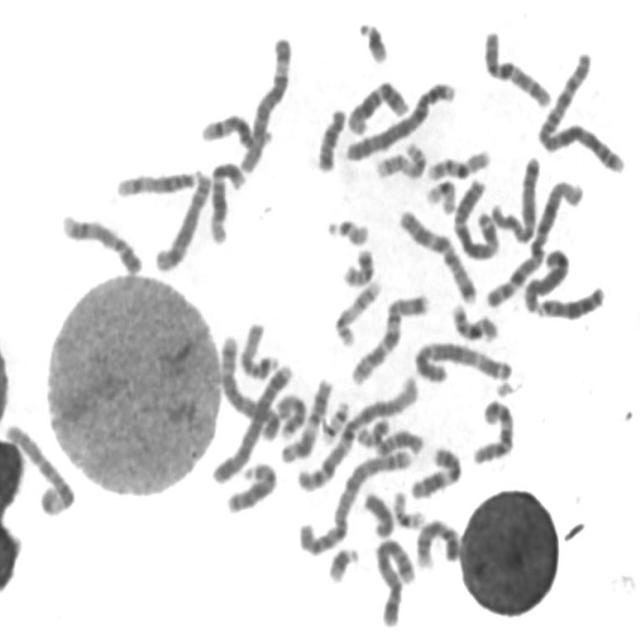A1: (293, 369, 422, 494), (482, 175, 586, 311)
A2: (295, 442, 415, 558), (533, 49, 628, 174)
A3: (409, 334, 515, 387), (449, 174, 502, 262)
B4: (208, 356, 296, 486), (342, 75, 458, 164)
B5: (215, 328, 282, 443), (371, 532, 418, 630)
C10: (479, 23, 554, 110), (468, 394, 517, 467)
C11: (276, 374, 335, 465), (406, 441, 464, 502)
C12: (343, 74, 412, 137), (205, 155, 248, 246)
C6: (236, 29, 294, 176), (2, 418, 77, 517)
C7: (394, 204, 480, 305), (347, 288, 432, 387)
C8: (150, 167, 213, 274), (520, 243, 572, 314)
C9: (56, 208, 144, 278), (411, 513, 461, 570)
D13: (222, 457, 278, 516), (532, 280, 608, 321)
D14: (112, 163, 204, 200), (197, 108, 267, 150)
D15: (236, 316, 280, 382), (272, 389, 308, 441)
E16: (422, 143, 493, 182), (448, 298, 500, 344)
E17: (330, 274, 384, 348), (371, 137, 429, 182)
E18: (312, 102, 348, 174), (371, 424, 425, 458)
F19: (388, 486, 426, 530), (422, 175, 458, 215)
F20: (339, 244, 376, 288), (351, 413, 392, 449)
G21: (354, 15, 391, 66), (324, 542, 362, 585)
G22: (318, 394, 352, 445), (322, 213, 371, 247)
X: (487, 151, 543, 246)
Y: (359, 486, 396, 540)
